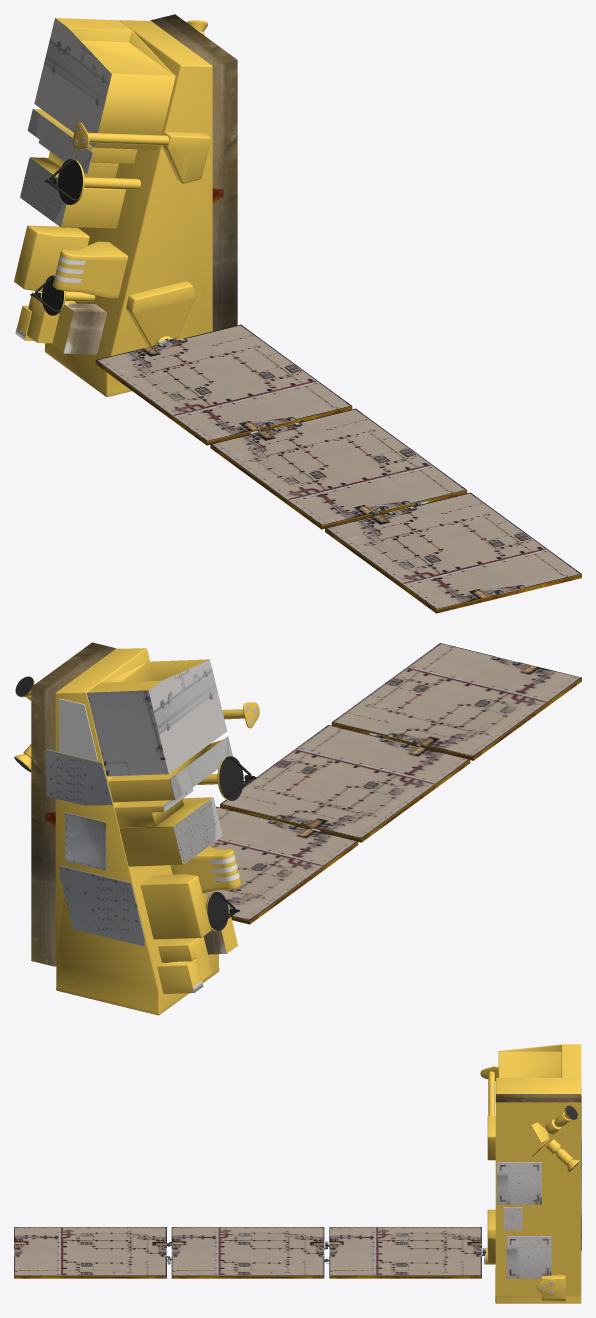
File: Suomi_NPP.glb
The picture shows the model from 3 angles, top to bottom: view 1: azimuth 30°, elevation 25°; view 2: azimuth 150°, elevation 25°; view 3: azimuth 270°, elevation 25°; orthographic projection. The views are drawn at different scales.
Parts seen in each view (by area): view 1: tex_01, foil_gold, tex_02, AO_01; view 2: tex_01, foil_gold, tex_02, AO_01; view 3: tex_01, foil_gold, tex_02.
Part boxes in pixels (x1,y1,x2,y2): tex_01: [74, 126, 581, 613]; foil_gold: [14, 18, 212, 396]; tex_02: [20, 14, 237, 354]; AO_01: [30, 159, 82, 315]; tex_01: [46, 643, 581, 946]; foil_gold: [15, 648, 259, 1015]; tex_02: [31, 642, 232, 966]; AO_01: [14, 676, 256, 930]; tex_01: [14, 1133, 581, 1293]; foil_gold: [480, 1044, 581, 1303]; tex_02: [495, 1087, 581, 1133].
Bounding box in the file's own units: 2.57 × 4.19 × 8.96.
Materials: 6 (4 with a texture image).
